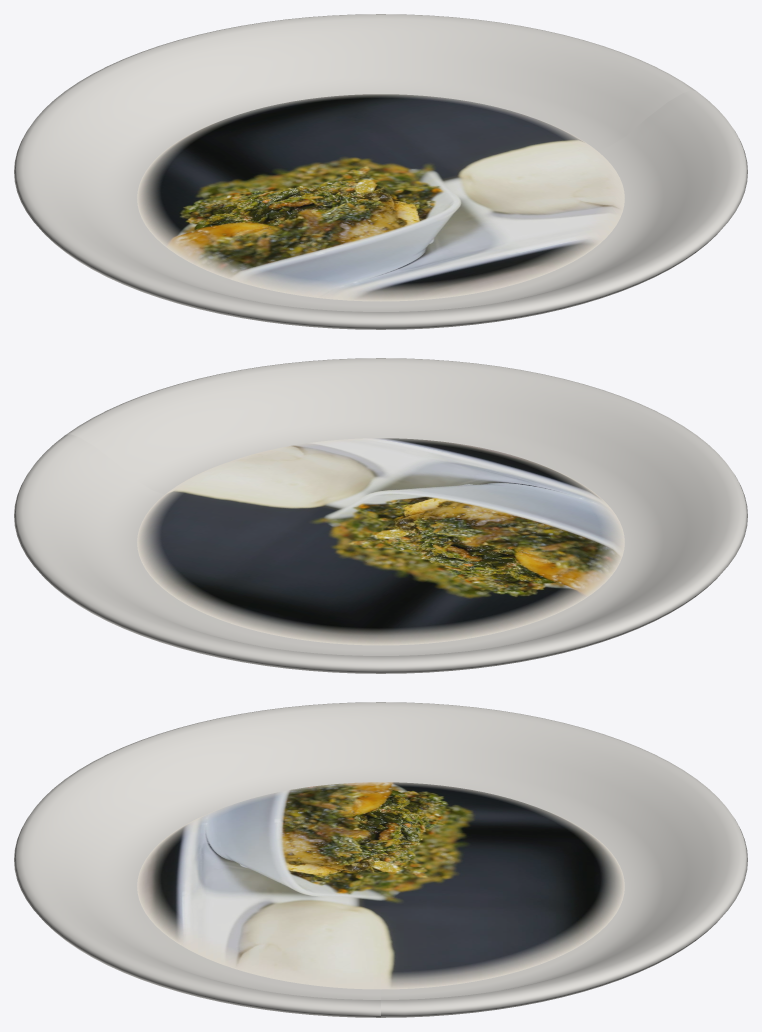
The model's file is sauce-feuille-foutou.glb.
3 renders of one model, top to bottom at view 1: azimuth 30°, elevation 25°; view 2: azimuth 150°, elevation 25°; view 3: azimuth 270°, elevation 25°, orthographic.
Visible parts, largest first — view 1: assiette, plat; view 2: assiette, plat; view 3: assiette, plat.
Part boxes in pixels (bbox=[...]): assiette: bbox=[14, 14, 747, 329]; plat: bbox=[137, 94, 624, 301]; assiette: bbox=[14, 358, 747, 673]; plat: bbox=[137, 438, 624, 645]; assiette: bbox=[14, 702, 747, 1017]; plat: bbox=[137, 782, 624, 989].
Bounding box in the file's own units: 0.301 × 0.0232 × 0.301.
2 materials, 1 textured.
